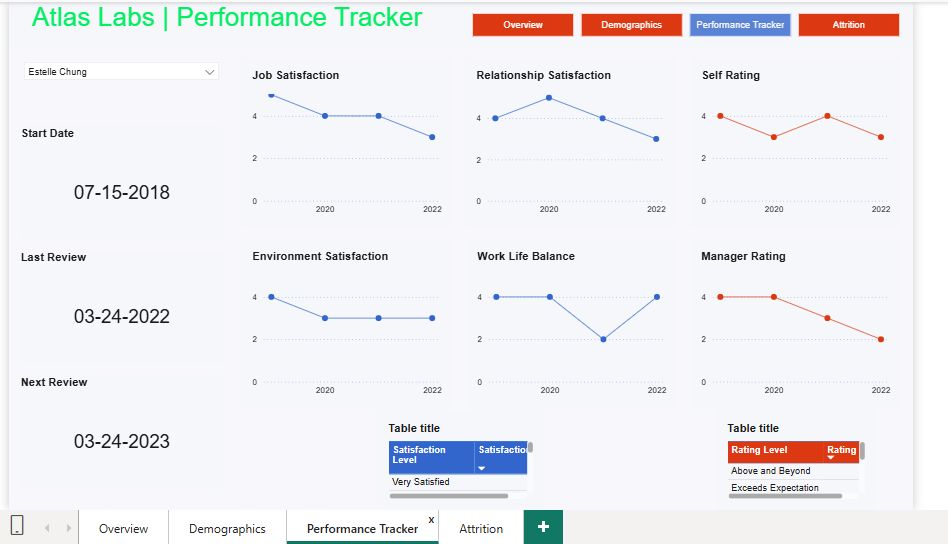

The page's visual inventory and layout, read from the dashboard file:
{"tool":"powerbi","page":{"name":"Performance Tracker","canvas":[1280,720],"ordinal":2},"visuals":[{"type":"shape","box":[0,0,1280,64],"z":0},{"type":"textbox","box":[32,0,624,64],"z":1000},{"type":"pageNavigator","box":[640,0,640,64],"z":2000},{"type":"slicer","fields":{"Values":["DimEmployee.FullName"]},"box":[16,80,288,80],"z":3000},{"type":"card","title":"Start Date","fields":{"Values":["Min(DimEmployee.HireDate)"]},"box":[16,176,288,160],"z":4000},{"type":"card","title":"Last Review","fields":{"Values":["_Measures.LastReviewDate"]},"box":[16,352,288,160],"z":5000},{"type":"card","title":"Next Review","fields":{"Values":["_Measures.NextReviewDate"]},"box":[16,528,288,160],"z":6000},{"type":"lineChart","title":"Job Satisfaction","fields":{"Y":["_Measures.JobSatisfaction"],"Category":["DimDate.Year"]},"box":[328.3,79.8,300,240.3],"z":7000},{"type":"lineChart","title":"Relationship Satisfaction","fields":{"Y":["_Measures.RelationshipSatisfaction"],"Category":["DimDate.Year"]},"box":[646.9,79.8,300,240.3],"z":8000},{"type":"lineChart","title":"Self Rating","fields":{"Y":["_Measures.SelfRating"],"Category":["DimDate.Year"]},"box":[965.5,79.8,299.7,240.3],"z":9000},{"type":"lineChart","title":"Work Life Balance","fields":{"Y":["_Measures.WorkLifeBalance"],"Category":["DimDate.Year"]},"box":[647.4,335.5,299.7,240.3],"z":10000},{"type":"lineChart","title":"Manager Rating","fields":{"Y":["_Measures.ManagerRating"],"Category":["DimDate.Year"]},"box":[965.5,335.5,299.7,240.3],"z":11000},{"type":"lineChart","title":"Environment Satisfaction","fields":{"Y":["_Measures.EnvironmentSatisfaction"],"Category":["DimDate.Year"]},"box":[328.3,335.5,300,240.3],"z":12000},{"type":"tableEx","fields":{"Values":["DimRatingLevel.RatingLevel","DimRatingLevel.RatingID"]},"box":[1002.3,579.9,227,140.1],"z":13000},{"type":"tableEx","fields":{"Values":["DimSatisfiedLevel.SatisfactionLevel","DimSatisfiedLevel.SatisfactionID"]},"box":[521.6,579.9,237.3,140.1],"z":14000}]}

Visuals, with their boxes on the page's 1280x720 design canvas (x1, y1, x2, y2). These are canvas units, not pixel positions in the 948x544 screenshot, which may show the page scaled, cropped or inside an application window:
shape: crop(0, 0, 1280, 64)
textbox: crop(32, 0, 656, 64)
pageNavigator: crop(640, 0, 1280, 64)
slicer - DimEmployee.FullName: crop(16, 80, 304, 160)
"Start Date" card: crop(16, 176, 304, 336)
"Last Review" card: crop(16, 352, 304, 512)
"Next Review" card: crop(16, 528, 304, 688)
"Job Satisfaction" lineChart: crop(328, 80, 628, 320)
"Relationship Satisfaction" lineChart: crop(647, 80, 947, 320)
"Self Rating" lineChart: crop(966, 80, 1265, 320)
"Work Life Balance" lineChart: crop(647, 336, 947, 576)
"Manager Rating" lineChart: crop(966, 336, 1265, 576)
"Environment Satisfaction" lineChart: crop(328, 336, 628, 576)
tableEx - DimRatingLevel.RatingLevel x DimRatingLevel.RatingID: crop(1002, 580, 1229, 720)
tableEx - DimSatisfiedLevel.SatisfactionLevel x DimSatisfiedLevel.SatisfactionID: crop(522, 580, 759, 720)
